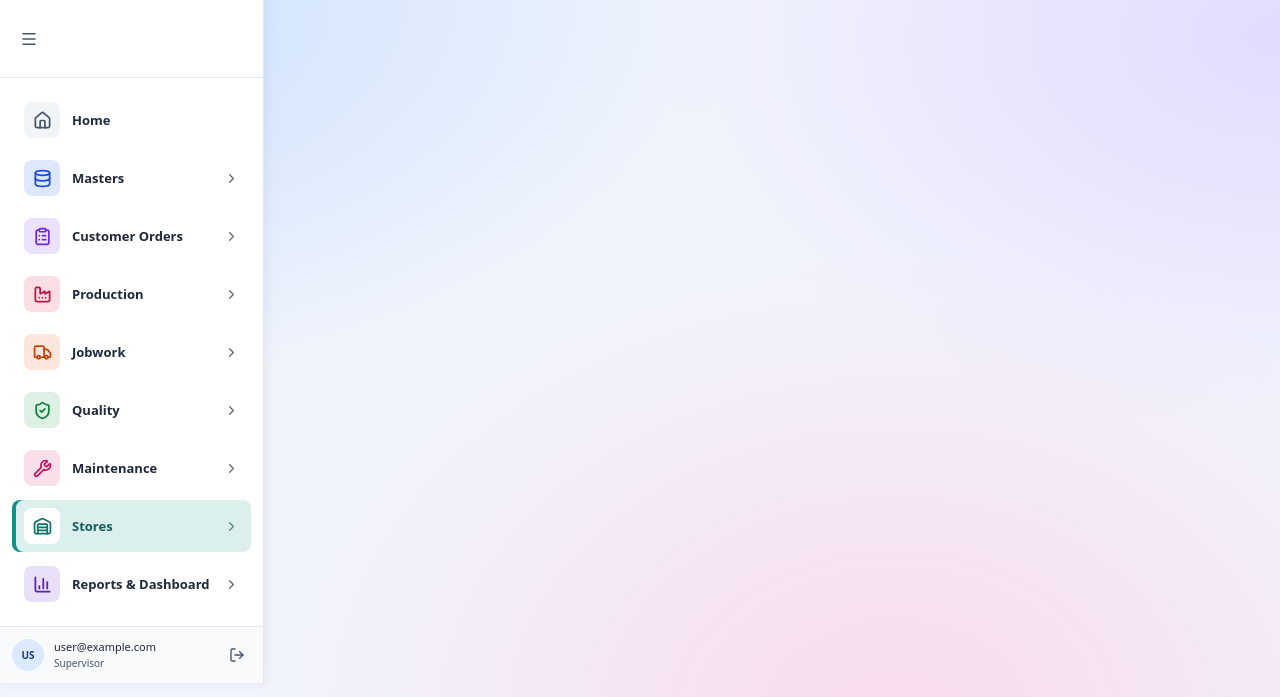
Test: clicking the active module › on its landing only toggles the screen list (no navigation)
The image size is (1280, 697).
Click the button with aria-label "Open Stores" at [132, 526], box [12,500,251,552]
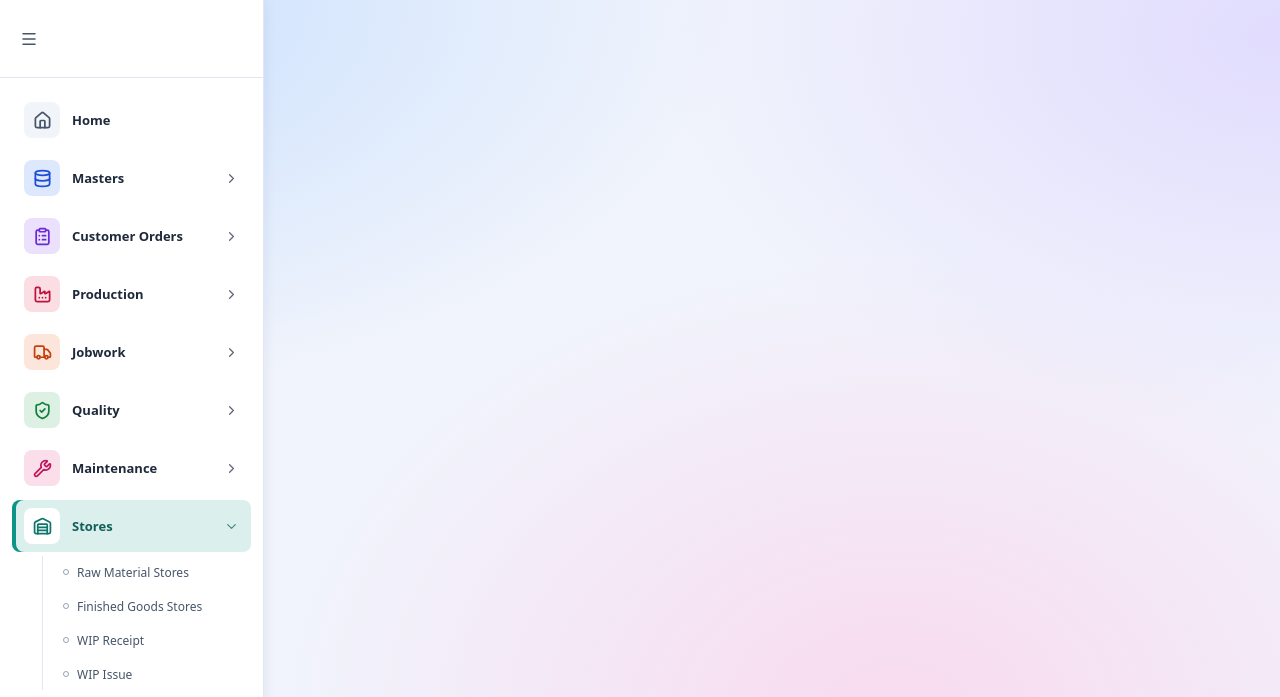
expect the button with aria-label "Open Stores" is expanded: met, box [12,500,251,552]
